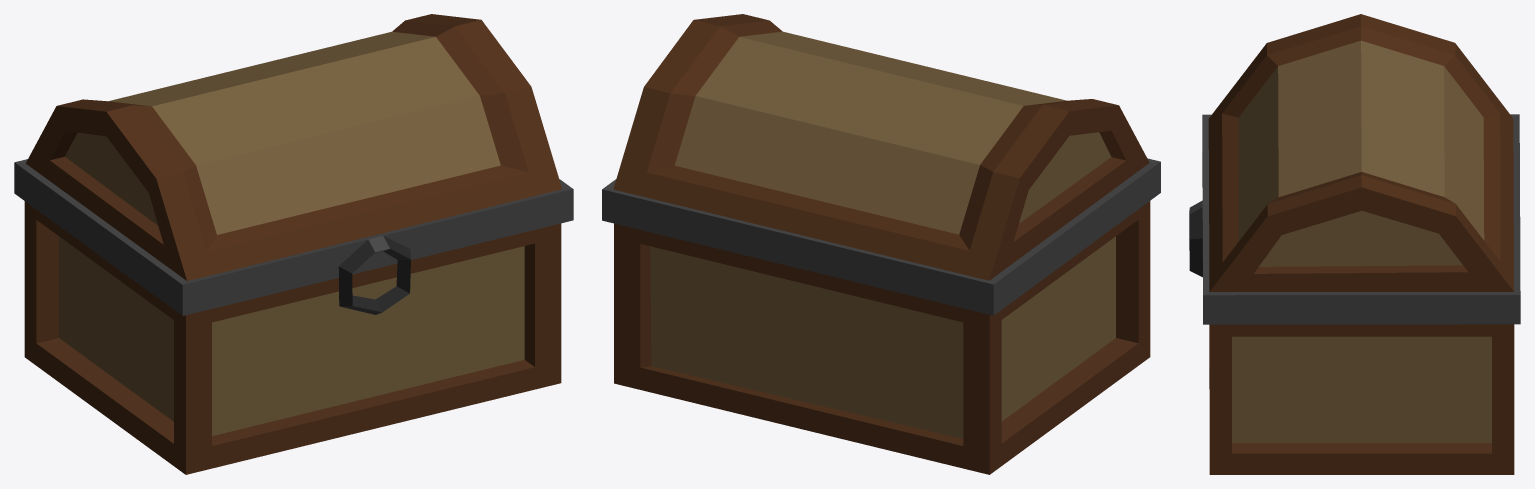
File: chest.glb
3 renders of one model, left to right at view 1: azimuth 30°, elevation 25°; view 2: azimuth 150°, elevation 25°; view 3: azimuth 270°, elevation 25°, orthographic. The views are drawn at different scales.
Visible parts, largest first — view 1: body; view 2: body; view 3: body.
Boxes of the visible parts, x1,y1,x2,y2 form: body: (14,14,573,474); body: (602,14,1160,474); body: (1189,14,1520,474).
Size of the model in its own units: 140 by 104 by 108.
